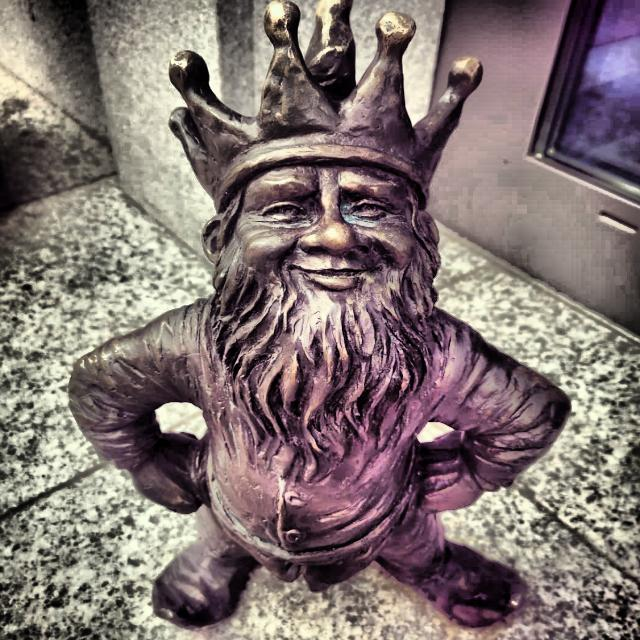Koronus: (67, 0, 572, 633)
